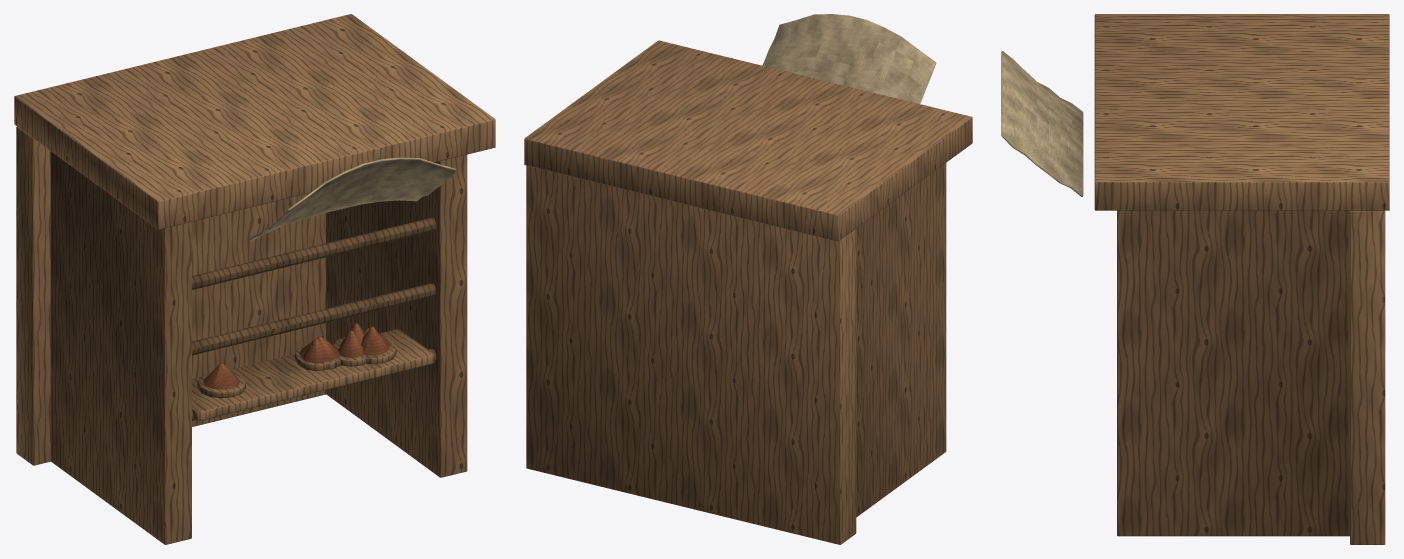
The model's file is booth_spice.glb.
The picture shows the model from 3 angles, left to right: view 1: azimuth 30°, elevation 25°; view 2: azimuth 150°, elevation 25°; view 3: azimuth 270°, elevation 25°; orthographic projection. The views are drawn at different scales.
Visible parts, largest first — view 1: booth_spice; view 2: booth_spice; view 3: booth_spice.
Boxes of the visible parts, x1,y1,x2,y2 form: booth_spice: (14, 14, 495, 544); booth_spice: (524, 14, 972, 544); booth_spice: (1001, 14, 1389, 544).
Size of the model in its own units: 2.7 by 2.96 by 2.63.
3 materials, 3 textured.
